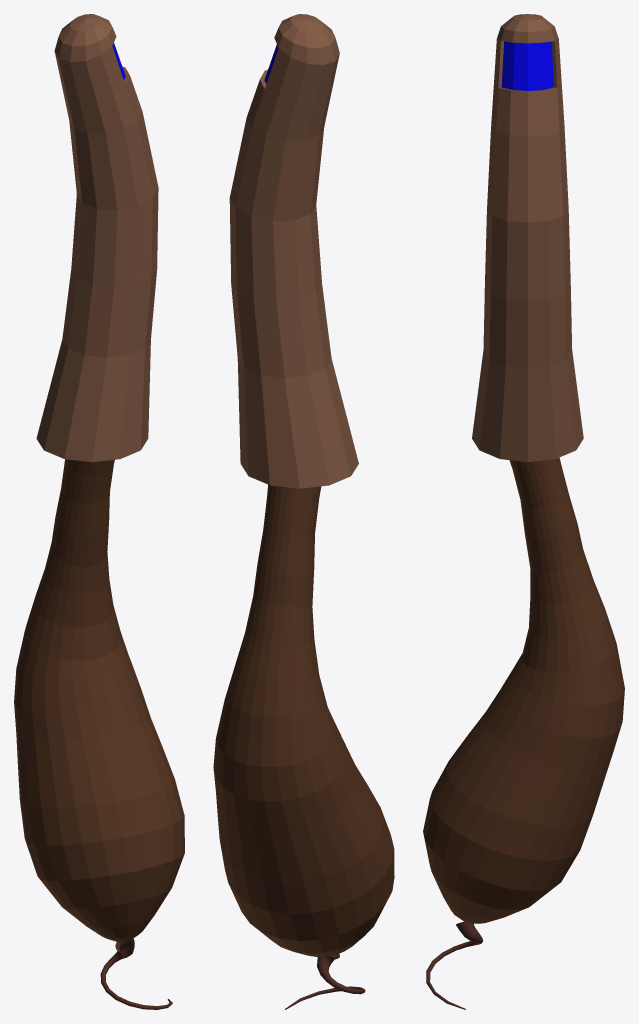
Rendered from Wand 749.glb.
The picture shows the model from 3 angles, left to right: view 1: azimuth 30°, elevation 25°; view 2: azimuth 150°, elevation 25°; view 3: azimuth 270°, elevation 25°; orthographic projection. The views are drawn at different scales.
Visible parts, largest first — view 1: GeneratedWand; view 2: GeneratedWand; view 3: GeneratedWand.
Part boxes in pixels (x1,y1,x2,y2): GeneratedWand: (14,14,184,1009); GeneratedWand: (213,14,394,1009); GeneratedWand: (423,14,624,1009).
Bounding box in the file's own units: 0.0828 × 0.5472 × 0.1032.
